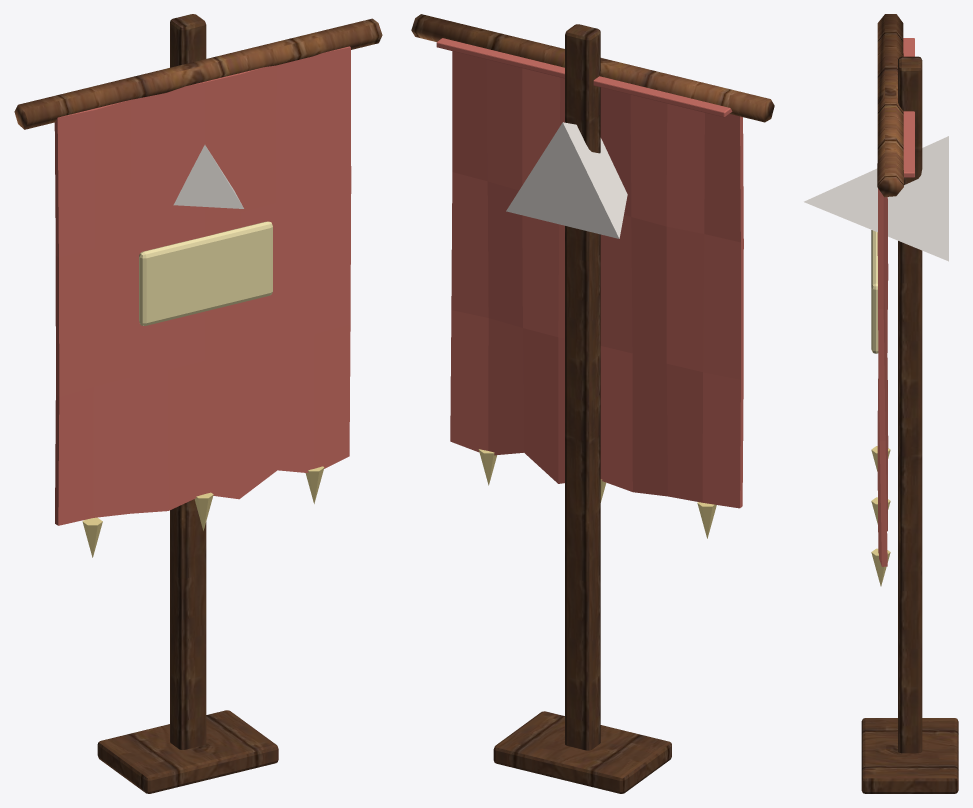
Rendered from banner_anvil.glb.
3 views of the same model, side by side, from view 1: azimuth 30°, elevation 25°; view 2: azimuth 150°, elevation 25°; view 3: azimuth 270°, elevation 25° (orthographic). The views are drawn at different scales.
Parts seen in each view (by area): view 1: model; view 2: model; view 3: model.
Part boxes in pixels (x1,y1,x2,y2): model: [14, 14, 382, 793]; model: [411, 14, 774, 793]; model: [804, 14, 958, 793].
Size of the model in its own units: 0.8 by 1.6 by 0.32.
6 materials, 2 textured.
